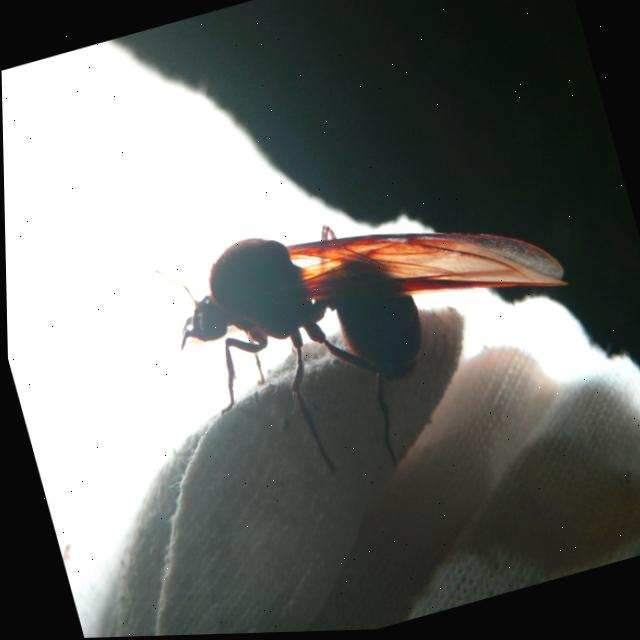Alive-Female-Alate: (148, 156, 604, 520)
